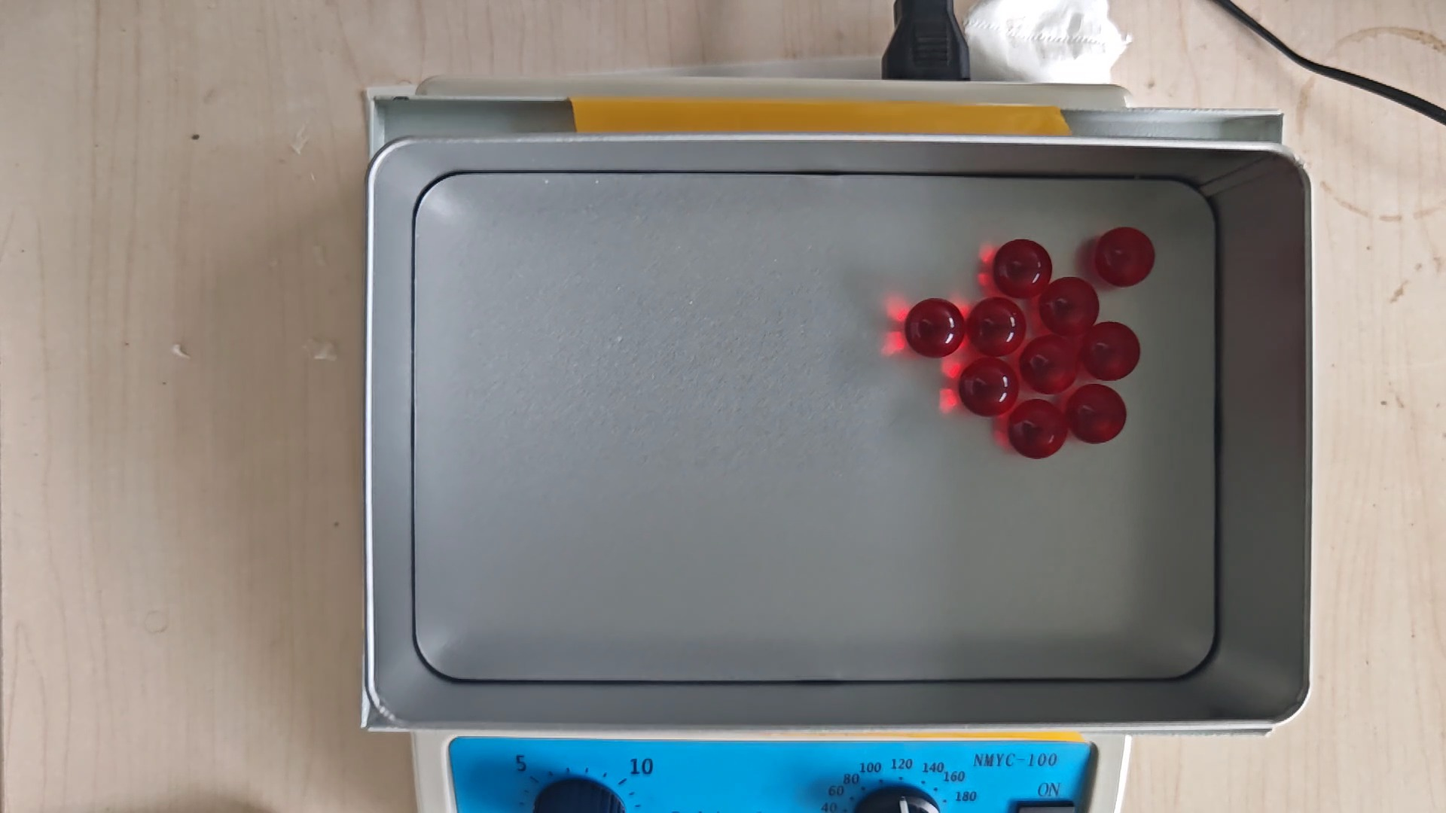ball: (905, 297, 965, 359), (1021, 334, 1081, 395), (958, 356, 1018, 416), (1096, 226, 1155, 287), (1068, 384, 1127, 444), (1082, 322, 1140, 382), (1009, 399, 1067, 459), (970, 297, 1027, 357), (993, 239, 1051, 297), (1041, 277, 1099, 333)
container: (413, 173, 1217, 682)
